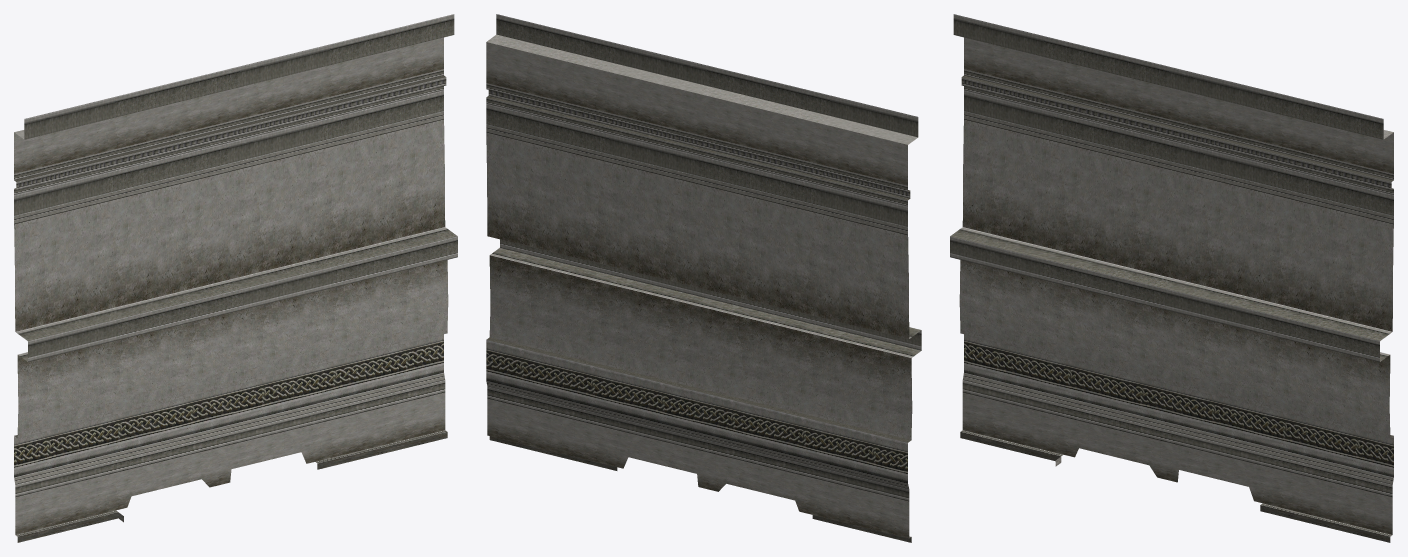
The model's file is DWARF_PALACE_WATER_ROOM_WALL01B01.fbx.
The picture shows the model from 3 angles, left to right: view 1: azimuth 30°, elevation 25°; view 2: azimuth 150°, elevation 25°; view 3: azimuth 330°, elevation 25°; orthographic projection.
Parts seen in each view (by area): view 1: DWARF_PALACE_WATER_ROOM_WALL01B01; view 2: DWARF_PALACE_WATER_ROOM_WALL01B01; view 3: DWARF_PALACE_WATER_ROOM_WALL01B01.
Part boxes in pixels (x1,y1,x2,y2): DWARF_PALACE_WATER_ROOM_WALL01B01: (14, 14, 457, 542); DWARF_PALACE_WATER_ROOM_WALL01B01: (486, 14, 921, 542); DWARF_PALACE_WATER_ROOM_WALL01B01: (950, 14, 1393, 542).
Size of the model in its own units: 214934 by 205000 by 12001.
9 materials, 9 textured.
